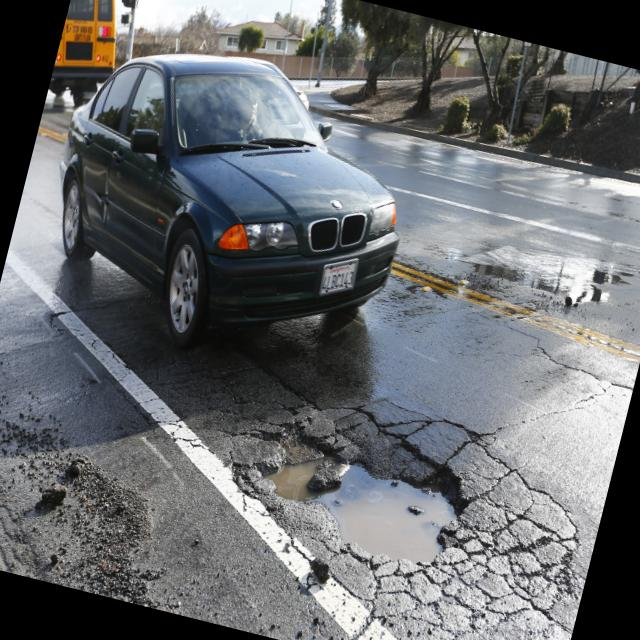Potholes: (210, 384, 488, 638)
